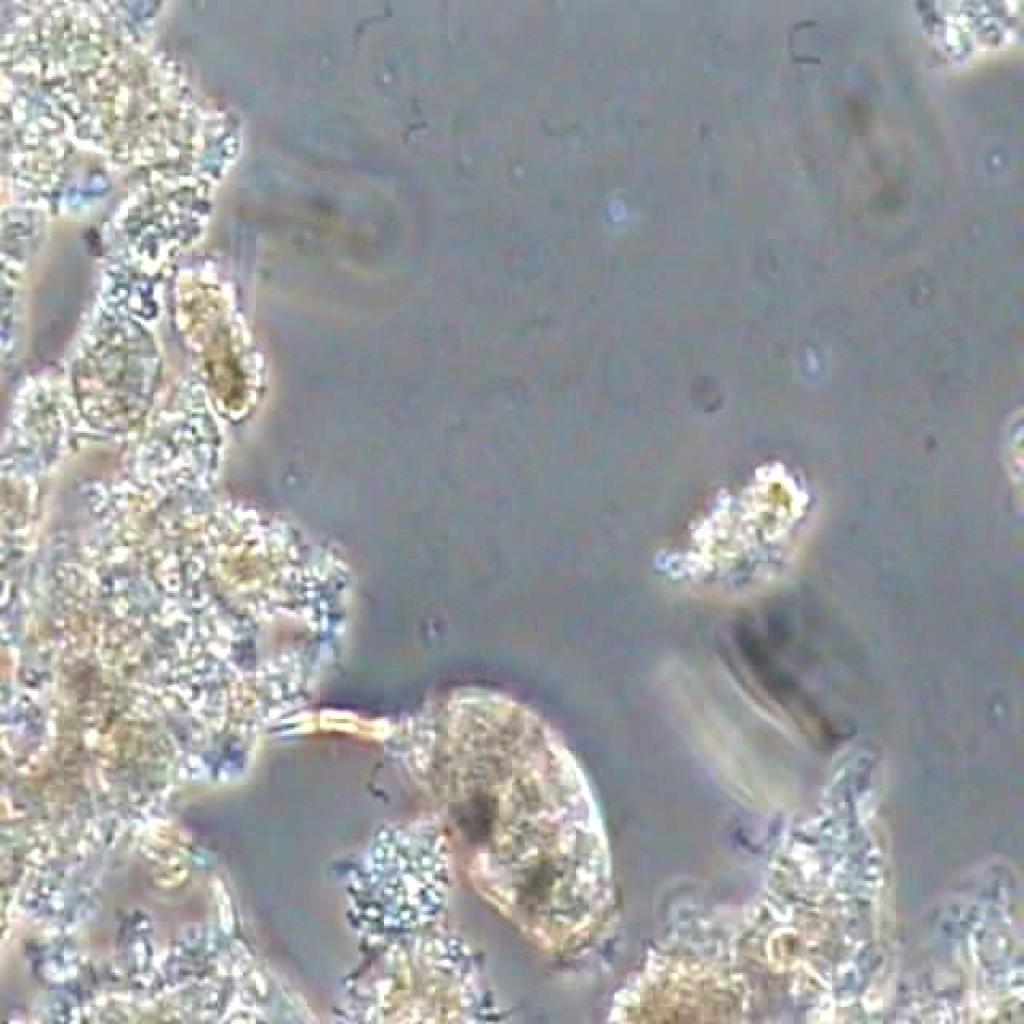Rotatoria: (260, 668, 630, 994)
